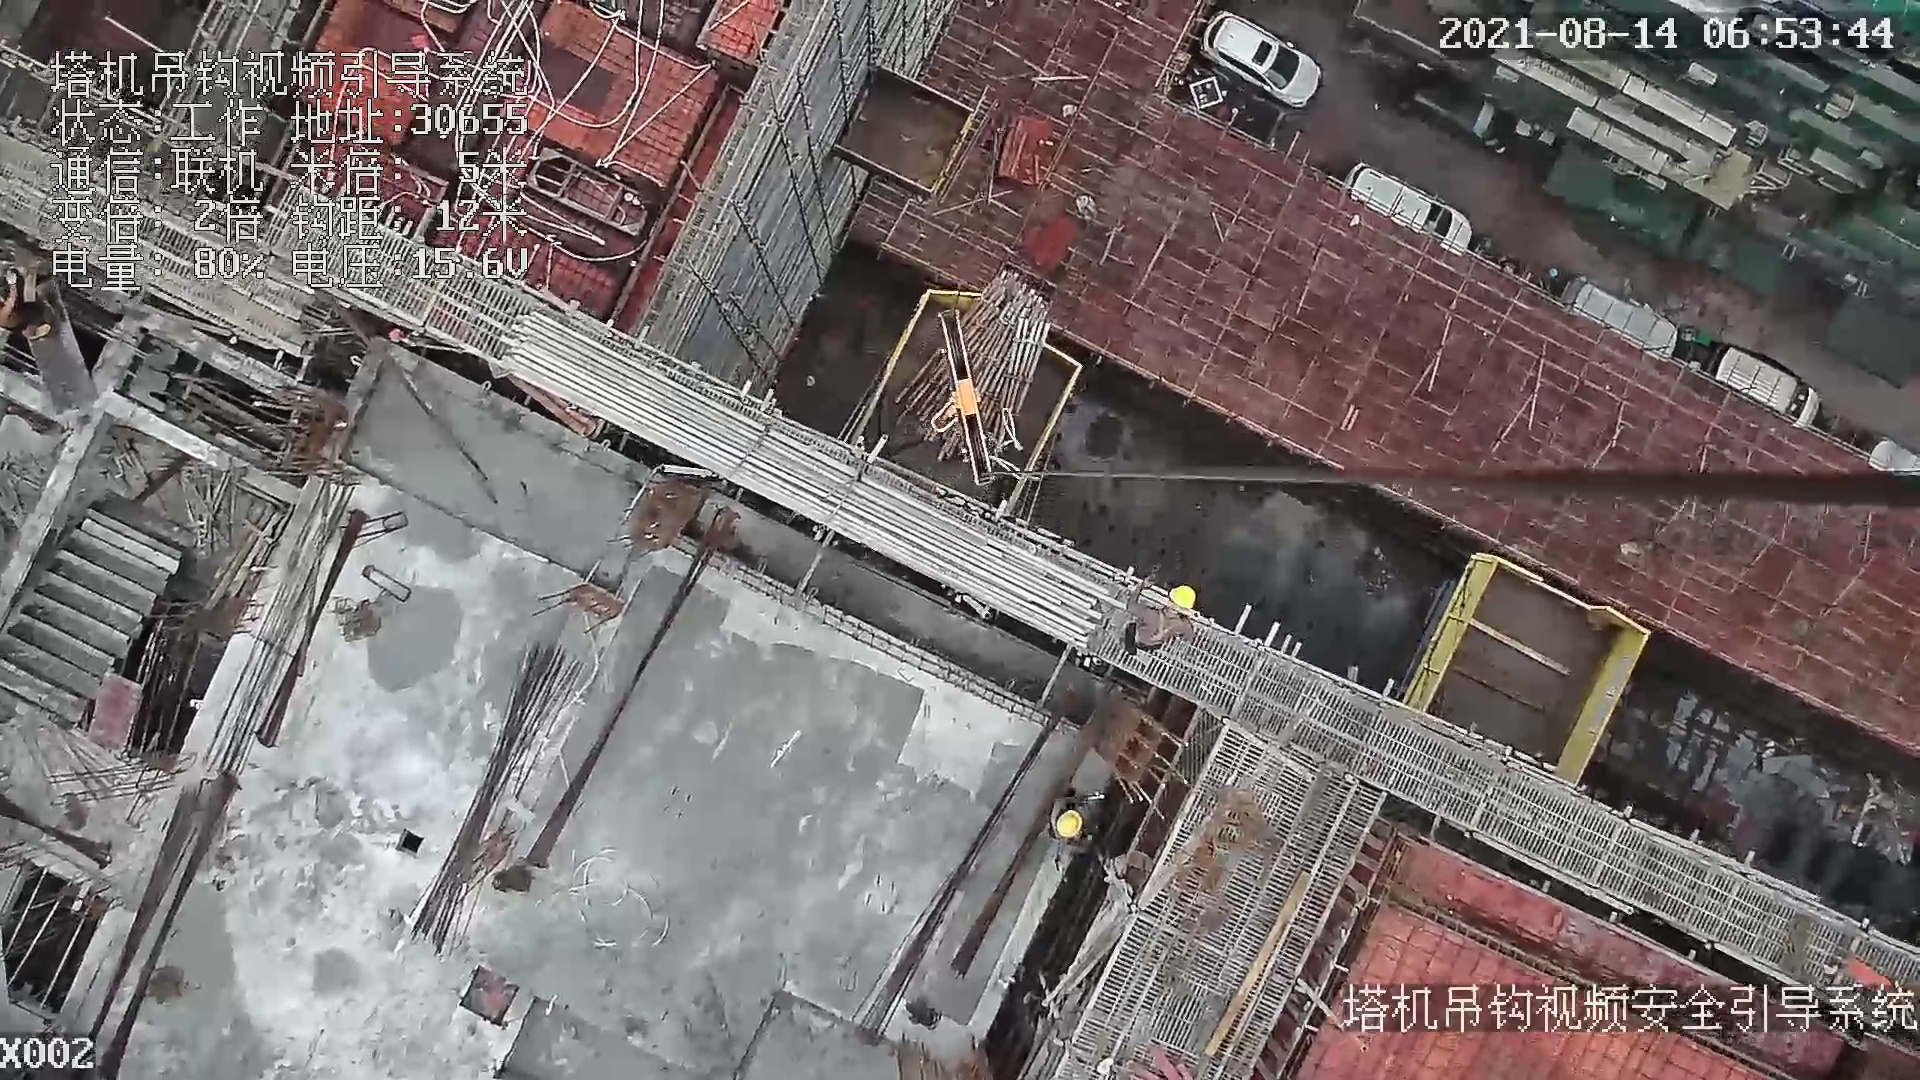helmet: (1055, 810, 1083, 838), (1168, 585, 1194, 608)
hook: (926, 296, 1006, 486)
person: (1127, 578, 1199, 656), (1042, 795, 1095, 854)
rebar: (495, 312, 1109, 646), (413, 646, 585, 959)
scaffold: (893, 275, 1049, 463)
